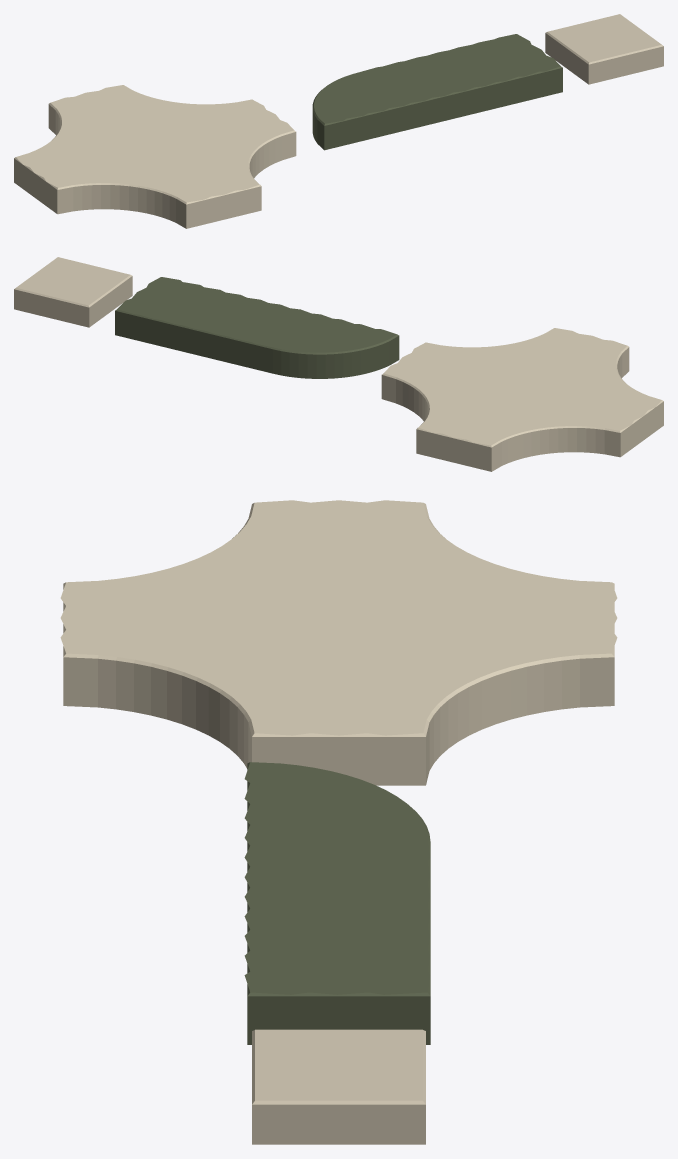
File: mahsulot.glb
3 views of the same model, one above another, from view 1: azimuth 30°, elevation 25°; view 2: azimuth 150°, elevation 25°; view 3: azimuth 270°, elevation 25° (orthographic). The views are drawn at different scales.
Parts seen in each view (by area): view 1: mahsulot_A, mahsulot_B, mahsulot_V; view 2: mahsulot_A, mahsulot_B, mahsulot_V; view 3: mahsulot_A, mahsulot_B, mahsulot_V.
Part boxes in pixels (x1=…): mahsulot_A: x1=14, y1=85, x2=296, y2=228; mahsulot_B: x1=312, y1=34, x2=562, y2=150; mahsulot_V: x1=545, y1=14, x2=663, y2=84; mahsulot_A: x1=381, y1=328, x2=663, y2=471; mahsulot_B: x1=115, y1=277, x2=399, y2=378; mahsulot_V: x1=14, y1=257, x2=132, y2=327; mahsulot_A: x1=60, y1=500, x2=617, y2=785; mahsulot_B: x1=244, y1=762, x2=430, y2=1044; mahsulot_V: x1=252, y1=1029, x2=425, y2=1144.
Size of the model in its own units: 0.7435 by 0.03 by 0.295.
